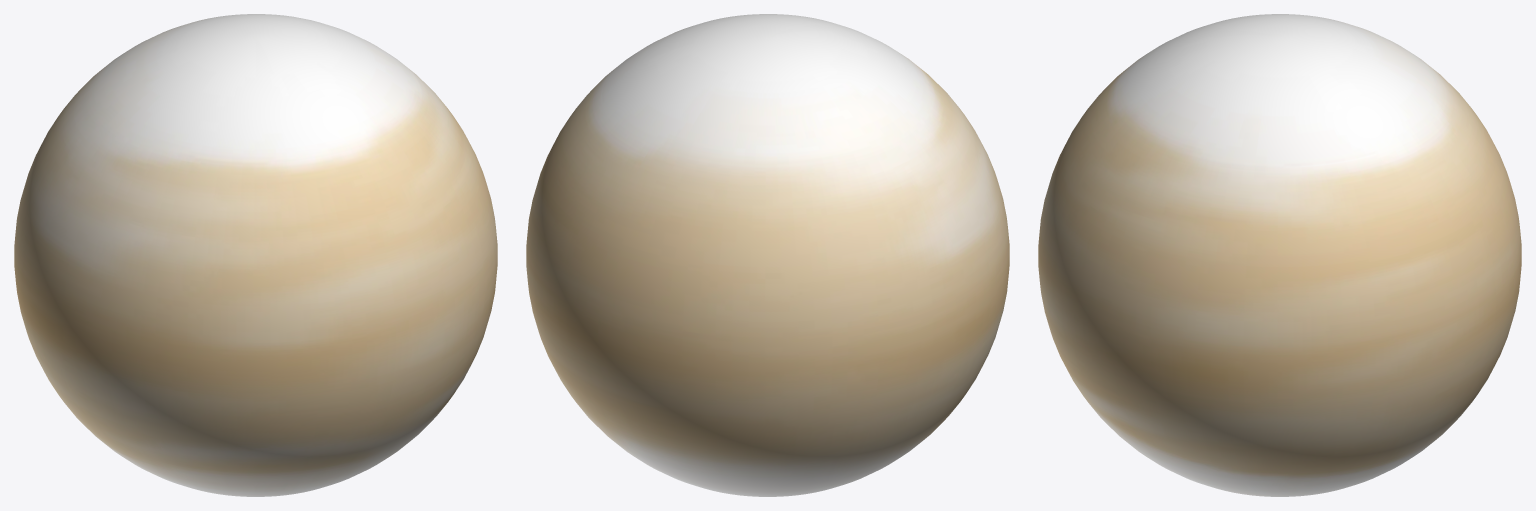
Rendered from venus.glb.
3 renders of one model, left to right at view 1: azimuth 30°, elevation 25°; view 2: azimuth 150°, elevation 25°; view 3: azimuth 270°, elevation 25°, orthographic.
Visible parts, largest first — view 1: cylindrically_mapped_sphere:Mesh; view 2: cylindrically_mapped_sphere:Mesh; view 3: cylindrically_mapped_sphere:Mesh.
Boxes of the visible parts, box(x1,y1,x2,y2) form: cylindrically_mapped_sphere:Mesh: box(14, 14, 497, 496); cylindrically_mapped_sphere:Mesh: box(526, 14, 1009, 496); cylindrically_mapped_sphere:Mesh: box(1038, 14, 1521, 496).
Bounding box in the file's own units: 1000 × 1000 × 1000.
1 material, 1 textured.
